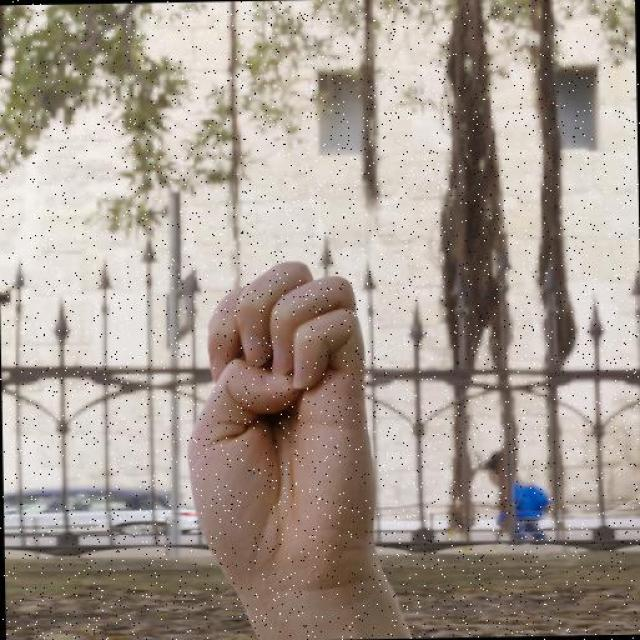E: (179, 256, 386, 602)
